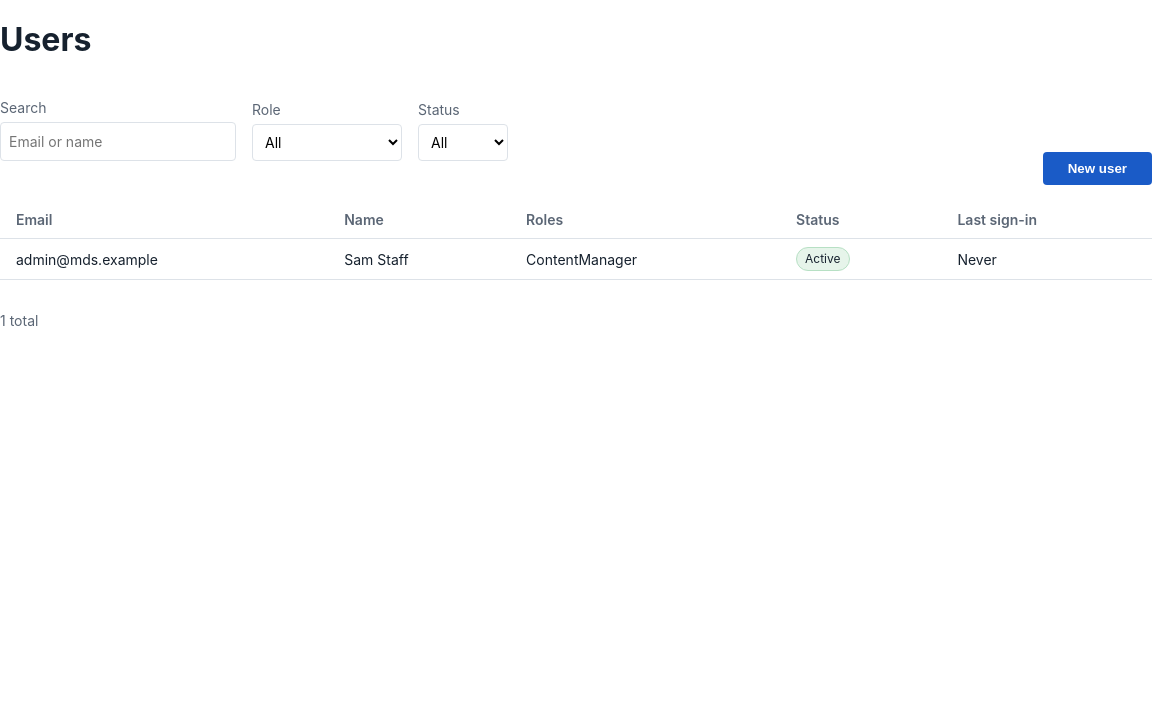
UsersPage › won't let you deactivate your own account
Click the text "admin@mds.example" at (164, 260), box [0,239,328,280]
(page scrolled)
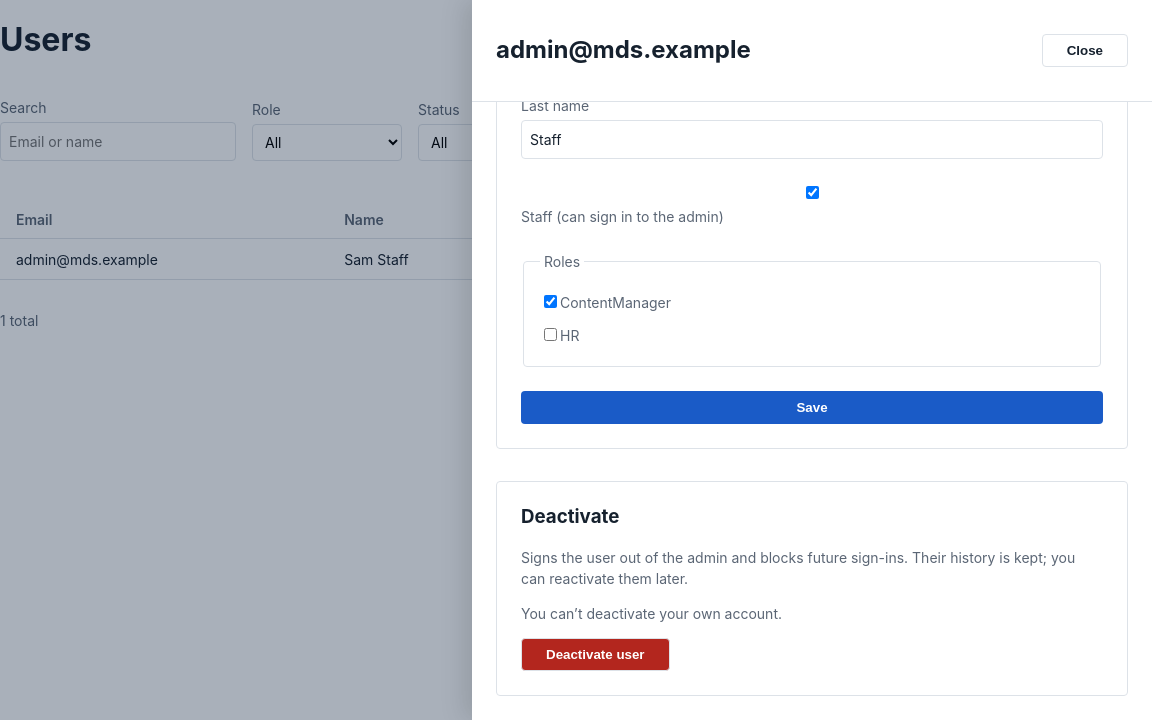
Now the button "Deactivate user" is disabled, box [521,638,670,671]
Now the text "You can’t deactivate your own account." is shown, box [521,605,782,622]
